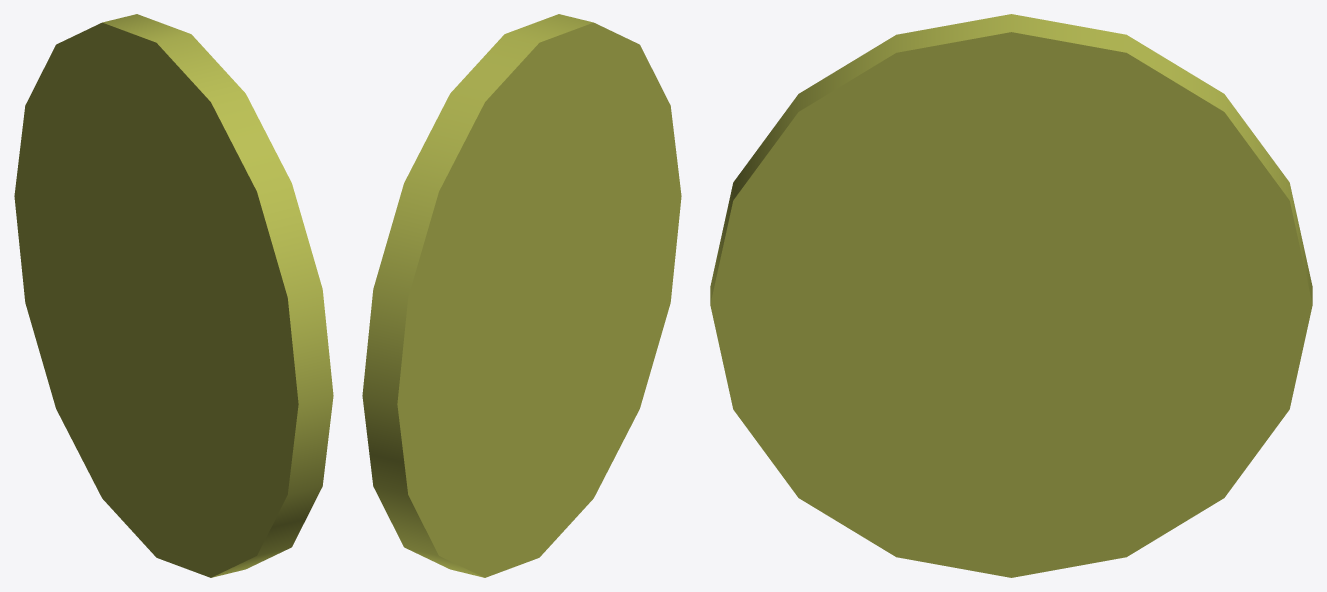
File: tot_lightrays1.fbx
3 renders of one model, left to right at view 1: azimuth 30°, elevation 25°; view 2: azimuth 150°, elevation 25°; view 3: azimuth 270°, elevation 25°, orthographic. The views are drawn at different scales.
Visible parts, largest first — view 1: tot_lightrays1; view 2: tot_lightrays1; view 3: tot_lightrays1.
Part boxes in pixels (x1,y1,x2,y2): tot_lightrays1: (14, 14, 333, 577); tot_lightrays1: (362, 14, 681, 577); tot_lightrays1: (710, 14, 1312, 577).
Size of the model in its own units: 2.91 by 41.02 by 41.02.
